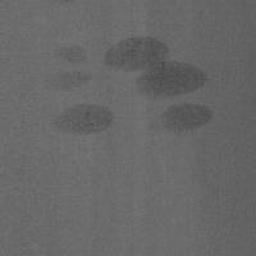Oil spot: (100, 35, 210, 100), (38, 44, 92, 93), (49, 101, 116, 137), (156, 101, 218, 138), (49, 0, 81, 10)
